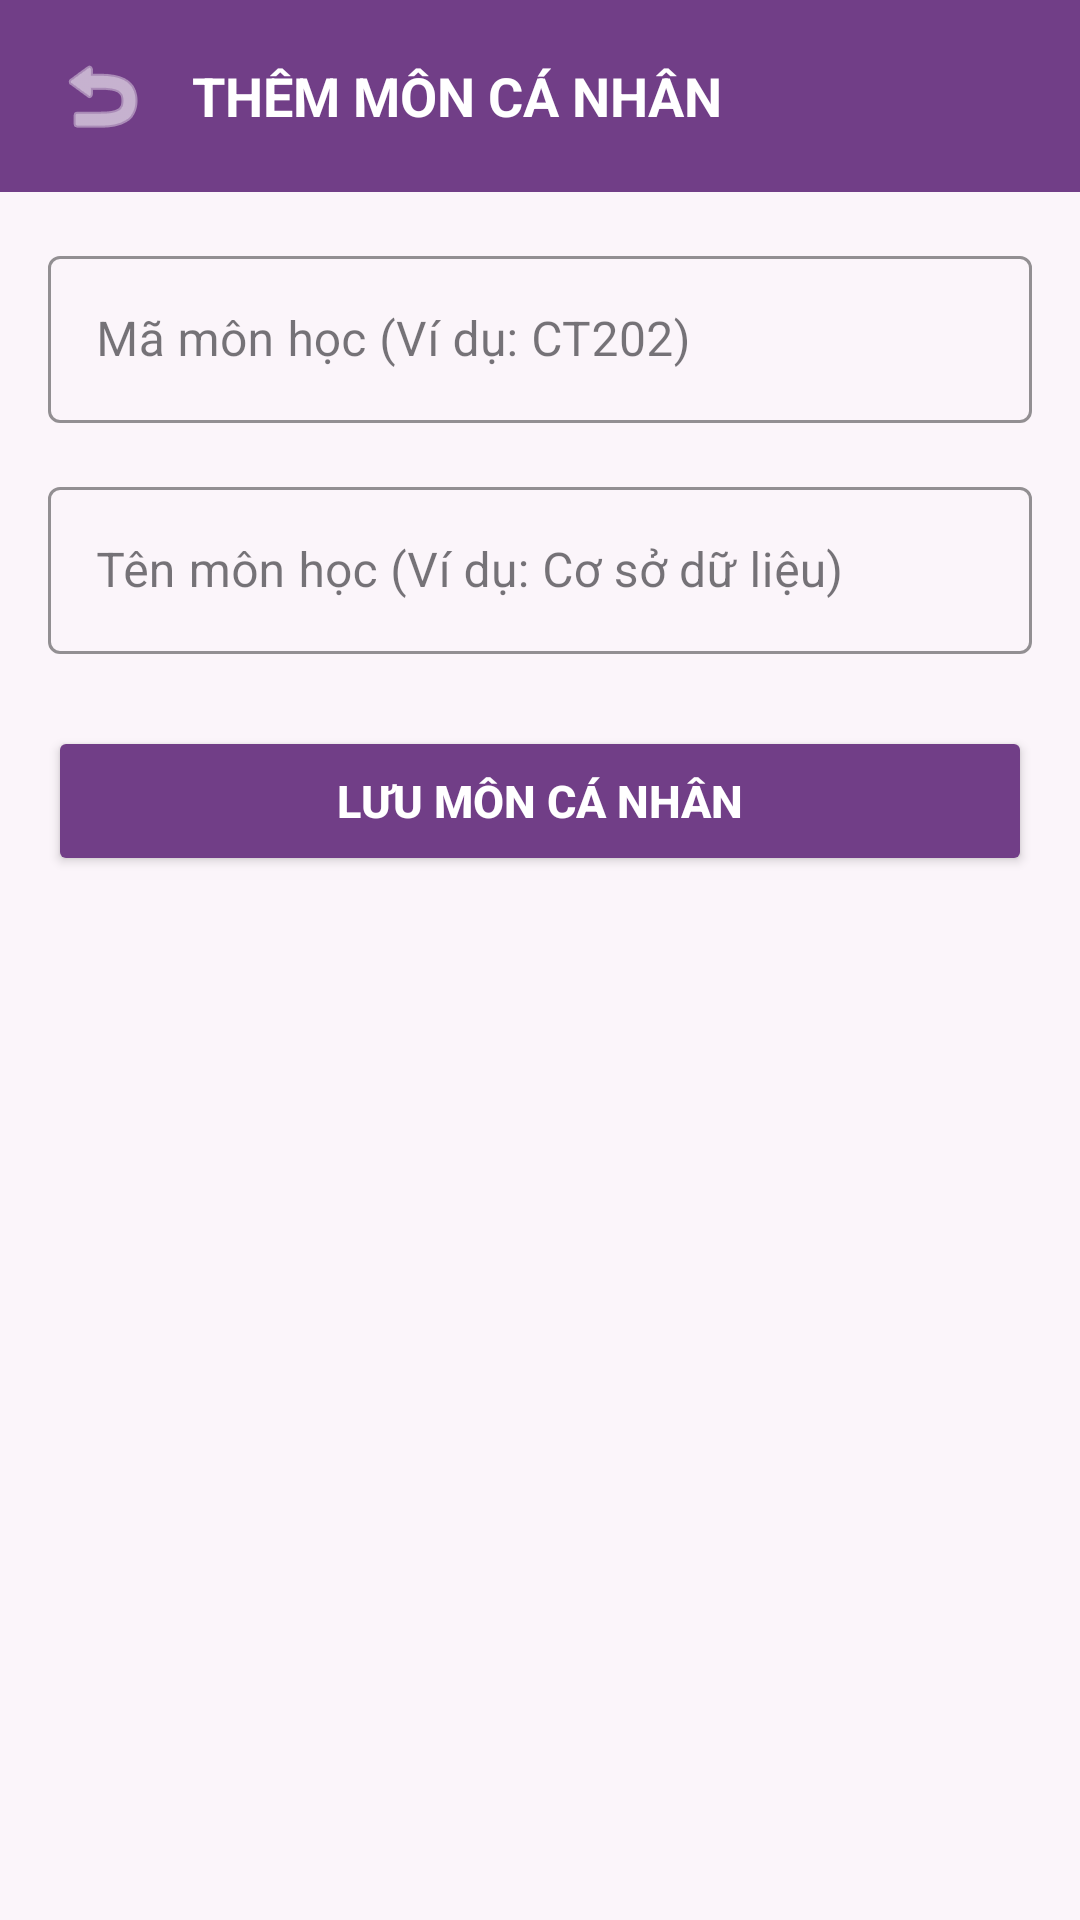

Icons on this 1080px×1920px Android screen, each with the point to tap as [x,y]:
Quay lại: [103,96]
